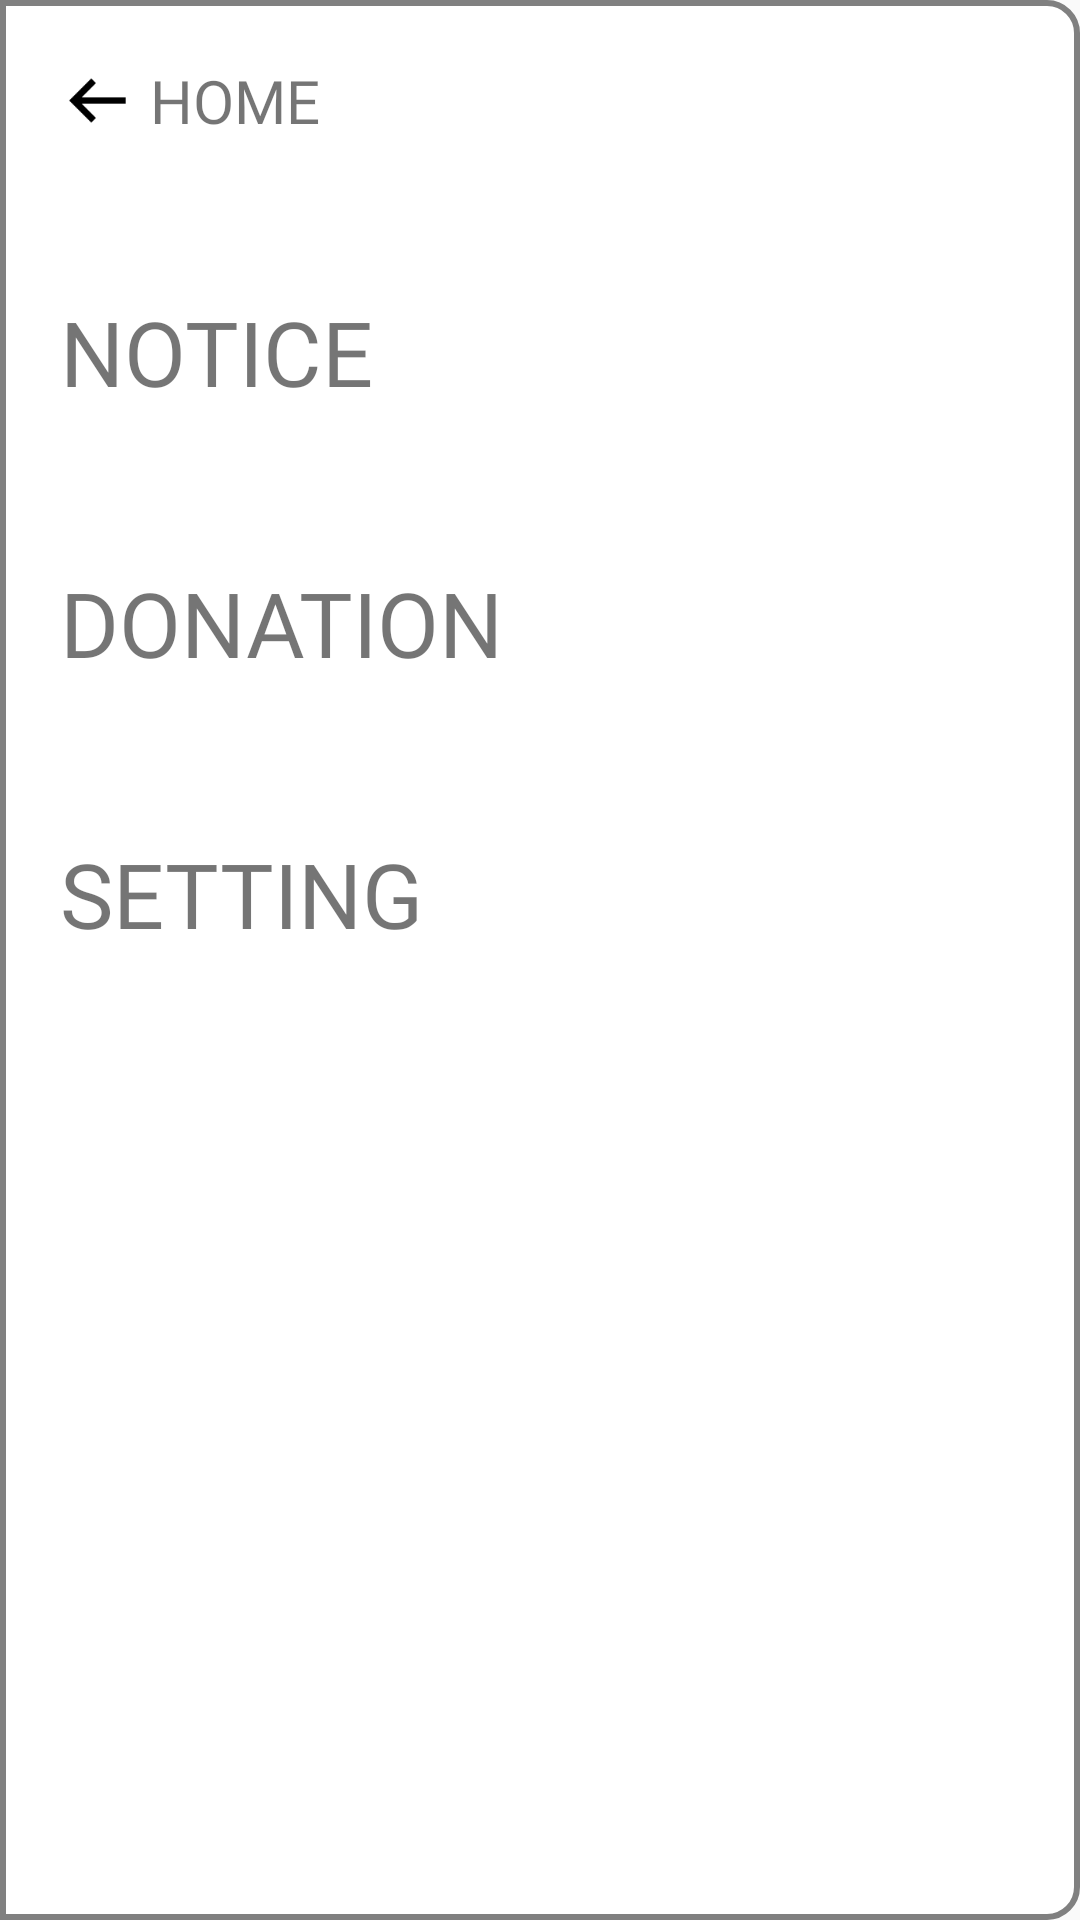

Where icons sit on this 1080 × 1920 app screen, as {"x1": x1, "y1": y1, "x2": x2, "y2": y2}:
left: {"x1": 69, "y1": 78, "x2": 126, "y2": 123}
